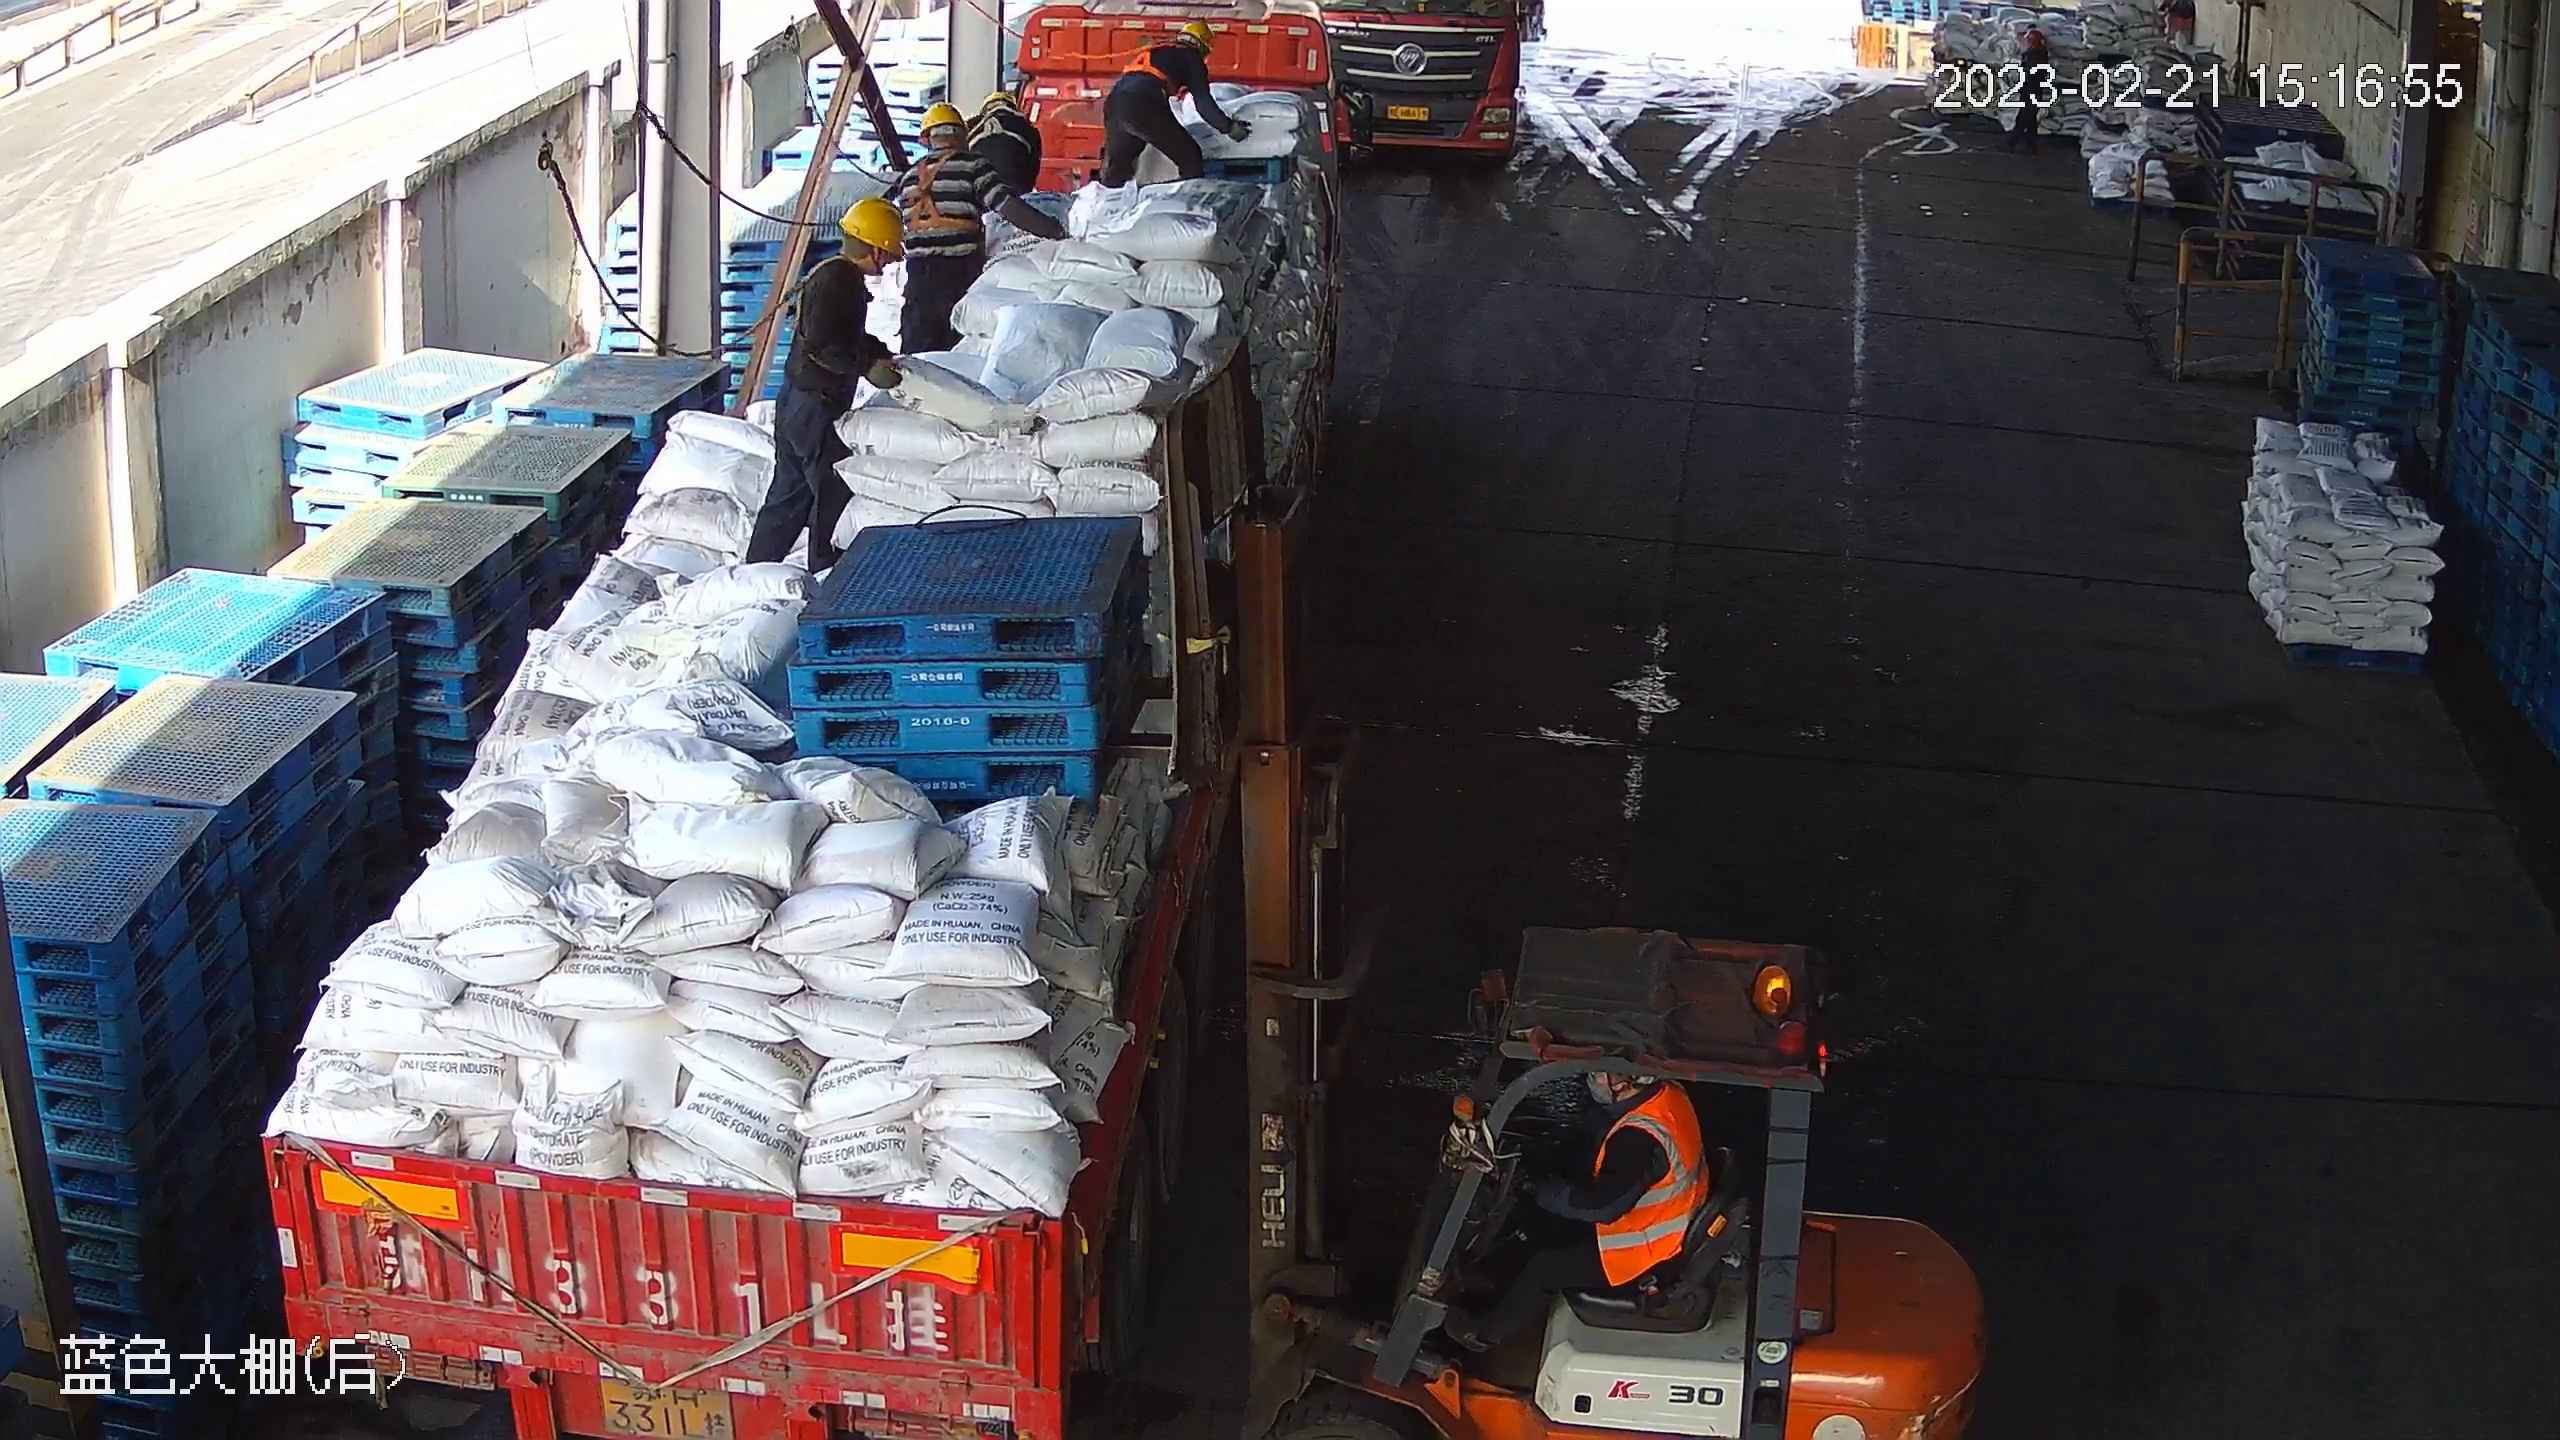belt: (785, 254, 865, 379), (895, 150, 984, 237), (1116, 38, 1179, 91), (965, 105, 1037, 150)
head: (1572, 1071, 1704, 1163), (797, 196, 908, 297), (894, 100, 998, 188), (1133, 19, 1215, 70), (969, 91, 1043, 146)
helmet: (836, 196, 905, 258), (917, 102, 969, 139), (1178, 19, 1216, 43)
people: (1443, 1062, 1713, 1360), (745, 198, 908, 579), (889, 101, 1067, 357), (1099, 17, 1255, 191)
truck: (258, 1, 1351, 1437)
